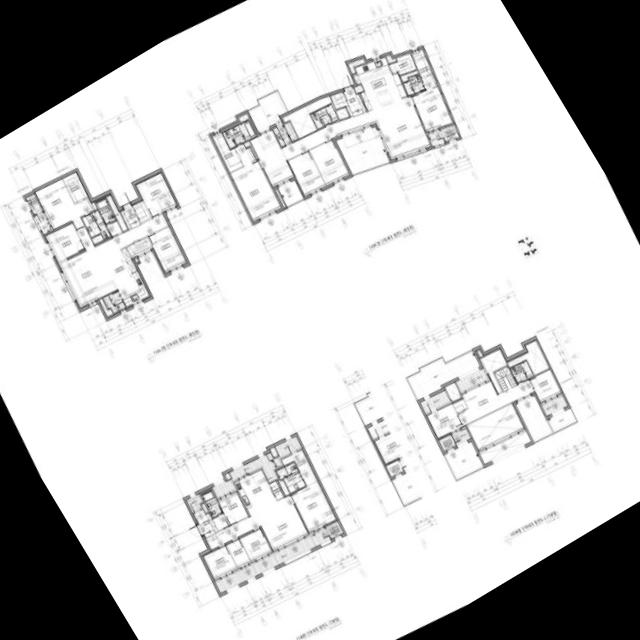background: (0, 0, 640, 640)
space_balconi: (215, 527, 330, 593), (408, 352, 480, 400), (211, 452, 282, 498), (335, 127, 389, 174), (248, 91, 287, 131), (445, 441, 483, 478), (455, 368, 487, 392), (420, 390, 450, 413), (278, 180, 303, 206), (548, 408, 575, 431), (272, 122, 297, 146), (541, 395, 567, 416), (275, 436, 301, 457), (102, 291, 125, 313), (34, 212, 51, 234), (451, 428, 471, 445), (186, 493, 203, 512), (427, 130, 444, 146)
space_bedroom: (230, 144, 280, 221), (35, 179, 94, 230), (291, 481, 336, 532), (135, 172, 177, 217), (309, 139, 349, 185), (411, 87, 452, 131), (148, 226, 186, 272), (288, 151, 325, 195), (45, 223, 84, 262), (427, 403, 462, 438), (202, 545, 237, 580), (529, 369, 561, 402), (240, 528, 271, 562), (218, 492, 248, 525)
space_dressroom: (280, 449, 318, 486), (212, 132, 242, 172), (411, 49, 437, 89), (62, 172, 87, 203)
space_front: (193, 509, 217, 538), (343, 88, 366, 116), (120, 204, 141, 229)
space_kitchen: (353, 57, 407, 110), (103, 247, 149, 306), (234, 469, 277, 515)
space_living_room: (250, 96, 430, 186), (59, 213, 169, 307), (205, 495, 308, 551), (458, 379, 534, 426)
space_other: (466, 403, 524, 450), (283, 96, 332, 138), (479, 431, 531, 464), (515, 395, 552, 441), (507, 340, 549, 375), (481, 349, 507, 393), (106, 195, 127, 231), (227, 539, 250, 568), (493, 365, 517, 392), (389, 53, 416, 75), (126, 237, 152, 258), (132, 200, 150, 222), (444, 382, 461, 401), (330, 92, 348, 109), (212, 514, 229, 530), (106, 221, 122, 237), (269, 481, 283, 499), (348, 59, 365, 73), (99, 298, 112, 316), (244, 141, 257, 158), (275, 189, 286, 208), (400, 71, 418, 82), (453, 399, 467, 413), (278, 479, 289, 495), (335, 107, 349, 119), (269, 447, 278, 457), (386, 55, 396, 63), (239, 114, 248, 122), (354, 85, 363, 93), (201, 503, 208, 513), (224, 473, 230, 480), (91, 202, 97, 209), (477, 350, 482, 357), (135, 258, 138, 262)
space_outdoor_room: (440, 124, 459, 142), (325, 521, 343, 539), (26, 194, 42, 214), (438, 435, 455, 451)
space_toilet: (81, 210, 110, 244), (222, 120, 256, 148), (276, 462, 305, 493), (310, 104, 338, 129), (95, 198, 116, 225), (201, 490, 222, 517), (510, 361, 533, 383), (403, 74, 425, 95)
